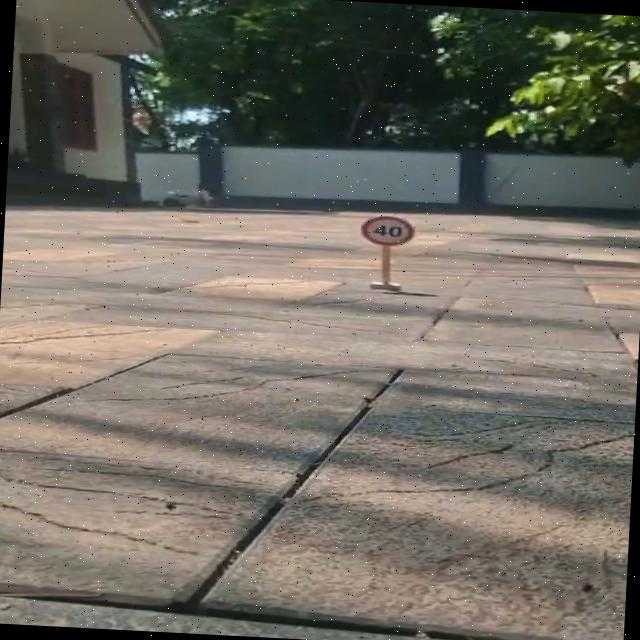Speed40: (357, 212, 420, 250)
